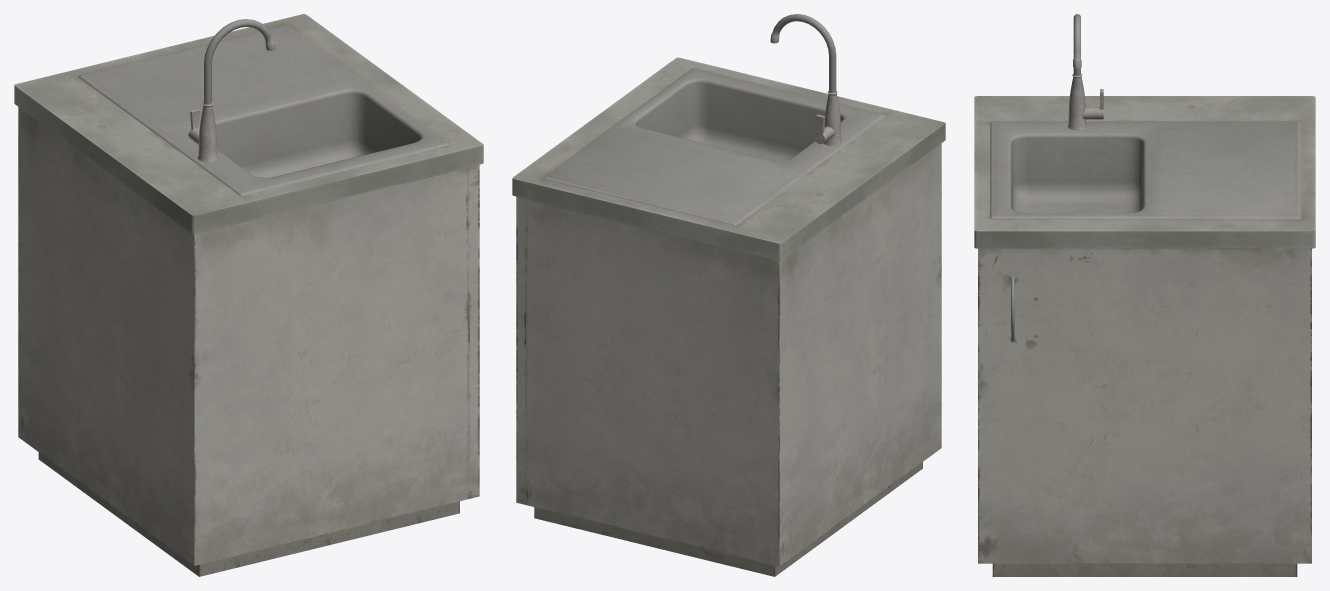
Rendered from kitchen_counter_with_sink.glb.
3 views of the same model, side by side, from view 1: azimuth 30°, elevation 25°; view 2: azimuth 150°, elevation 25°; view 3: azimuth 270°, elevation 25° (orthographic). The views are drawn at different scales.
Parts seen in each view (by area): view 1: body_low, sink_low, tap_low; view 2: body_low, sink_low, tap_low; view 3: body_low, sink_low, tap_low.
Boxes of the visible parts, x1,y1,x2,y2 form: body_low: (14, 14, 483, 576); sink_low: (78, 25, 449, 195); tap_low: (188, 19, 275, 162); body_low: (512, 57, 945, 576); sink_low: (543, 68, 885, 225); tap_low: (770, 14, 841, 146); body_low: (974, 96, 1315, 576); sink_low: (990, 121, 1301, 219); tap_low: (1068, 14, 1103, 130).
Size of the model in its own units: 1.26 by 2 by 1.29.
1 material, 1 textured.
